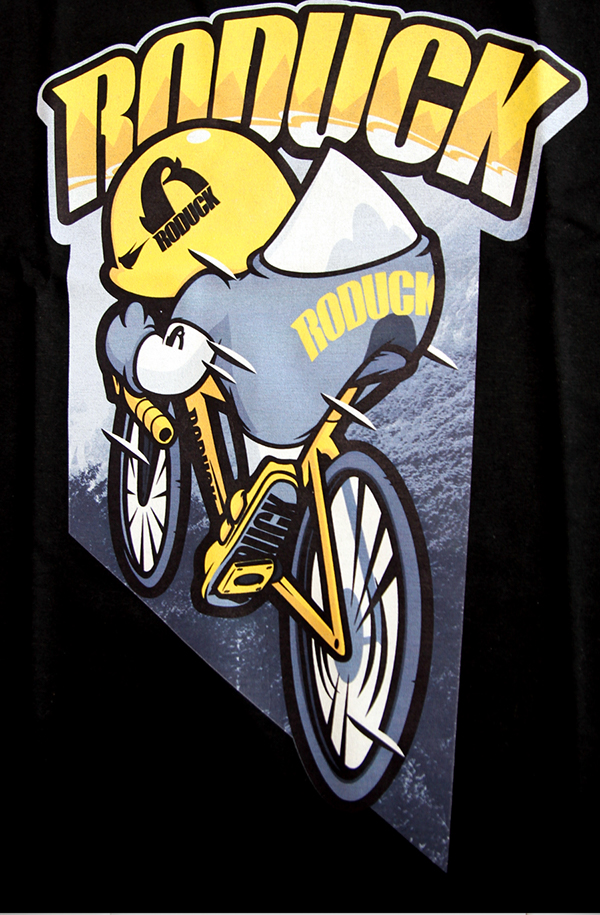bicycle: (56, 363, 439, 784)
